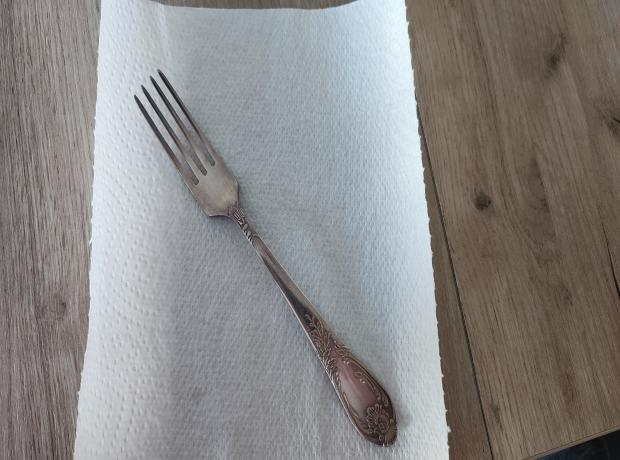metal: (132, 68, 399, 444)
